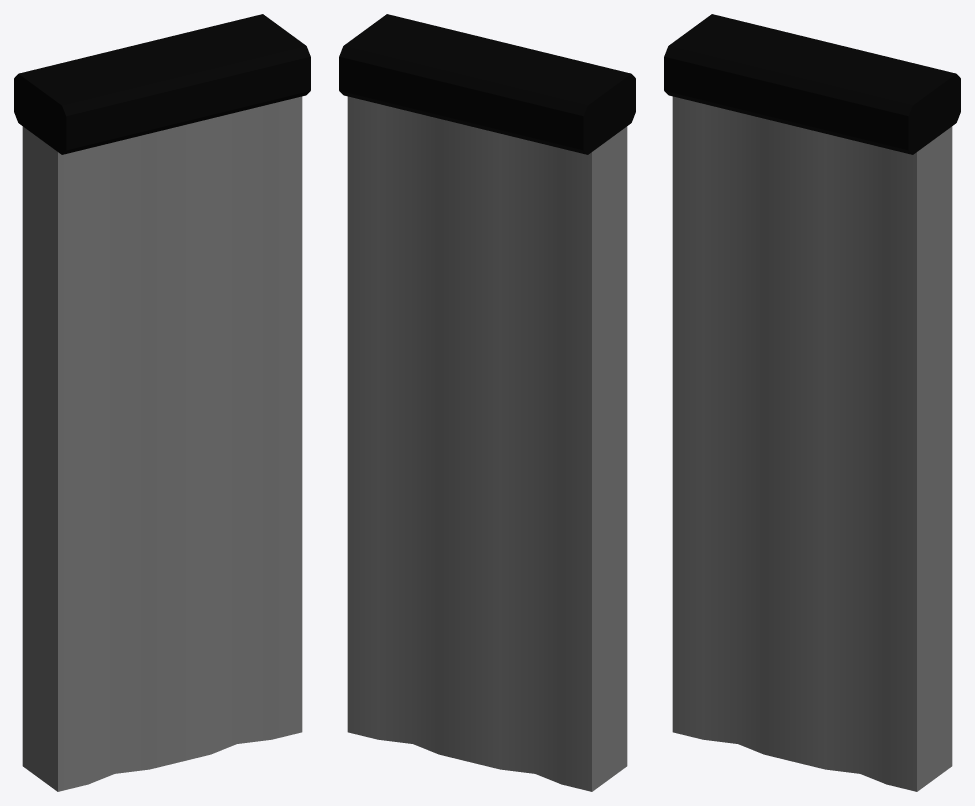
The model's file is MetalFence.fbx.
3 views of the same model, side by side, from view 1: azimuth 30°, elevation 25°; view 2: azimuth 150°, elevation 25°; view 3: azimuth 330°, elevation 25° (orthographic).
Parts seen in each view (by area): view 1: pCube1; view 2: pCube1; view 3: pCube1.
Part boxes in pixels (<box>): pCube1: <box>14,14,310,791</box>; pCube1: <box>339,14,635,791</box>; pCube1: <box>664,14,960,791</box>.
Size of the model in its own units: 2 by 5.39 by 0.7371.
